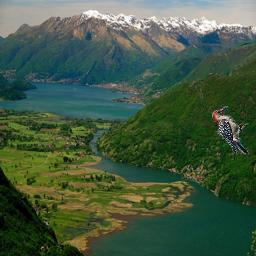Woodpecker: (212, 106, 249, 156)
